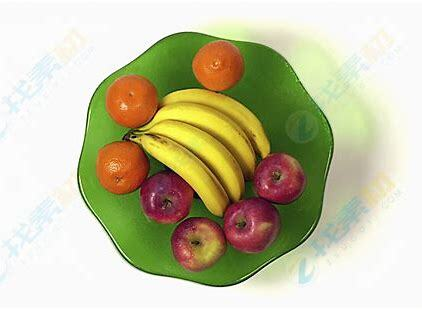apple: (224, 199, 284, 255), (171, 217, 229, 272), (250, 152, 306, 205), (141, 175, 192, 223)
banana: (139, 122, 244, 201), (148, 104, 257, 179), (154, 89, 271, 156), (135, 134, 224, 215)
orange: (96, 140, 151, 196), (104, 75, 162, 127), (192, 39, 246, 93)
